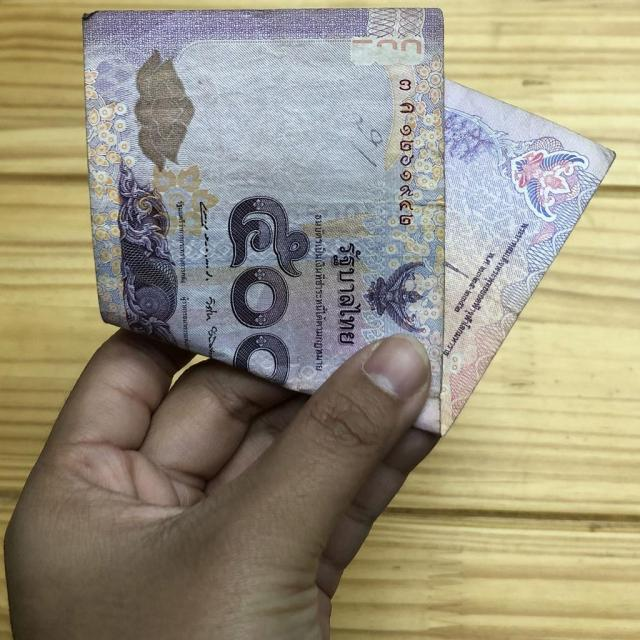THAI500: (82, 8, 616, 438)
